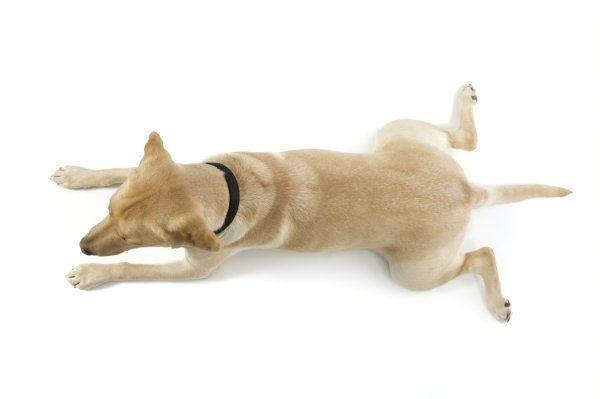adult_dog: (50, 83, 576, 321)
